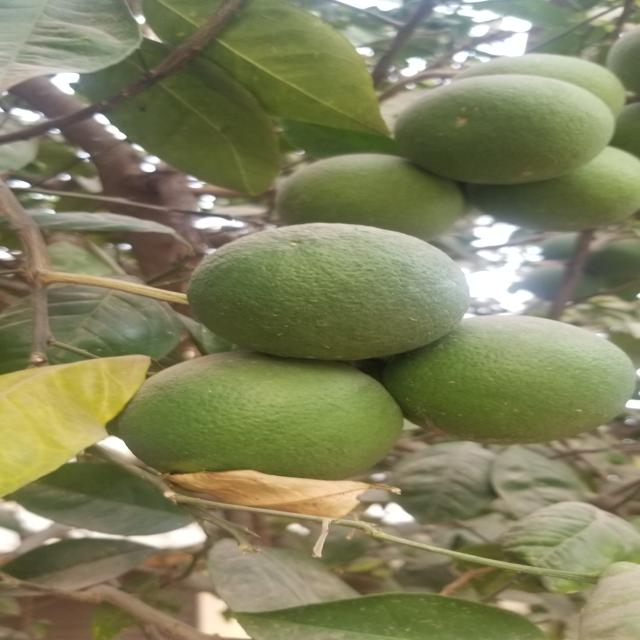Unripe: (170, 221, 467, 373), (121, 352, 408, 507), (392, 314, 640, 451), (388, 73, 620, 195)
